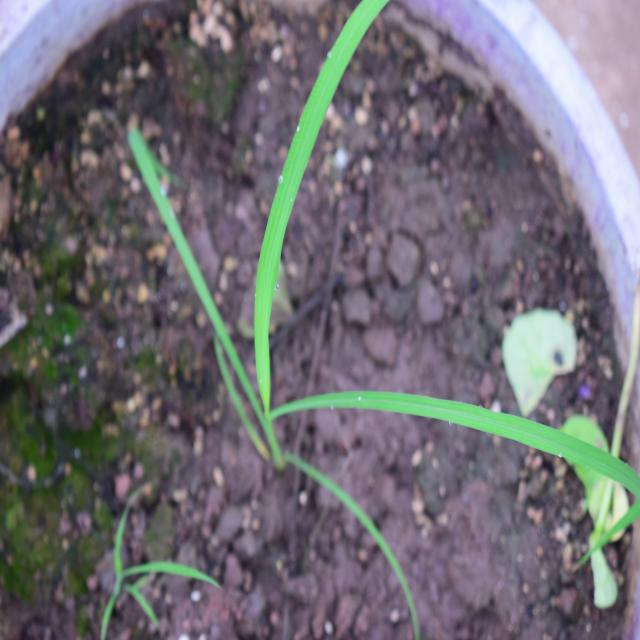barnyard_grass: (158, 62, 620, 509)
